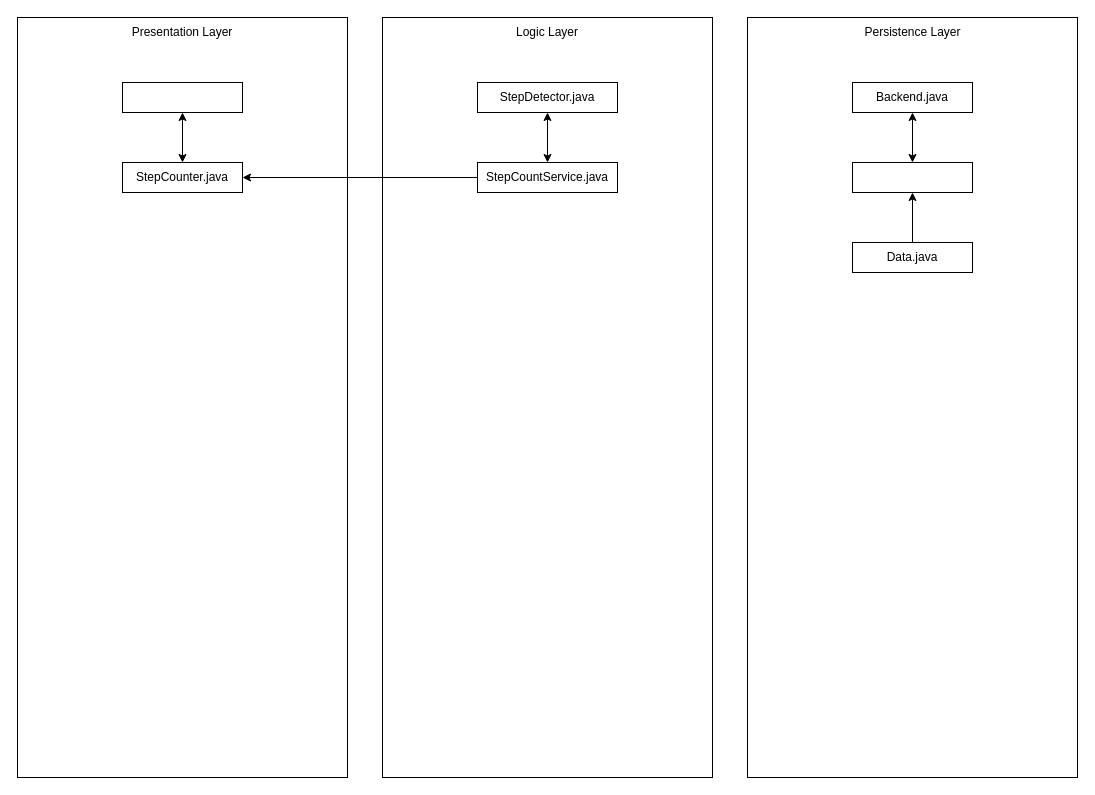
The diagram is 1095 pixels wide and 795 high, and some of its shapes have lost their labels. Each missing label, with the centre of its shape:
FakeDatabase.java: (x=912, y=177)
MainActivity.Java: (x=182, y=97)
